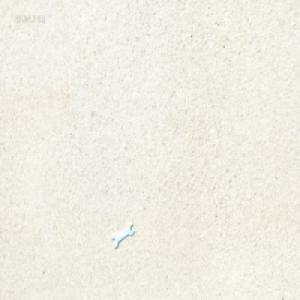Wrench: (112, 223, 134, 251)
